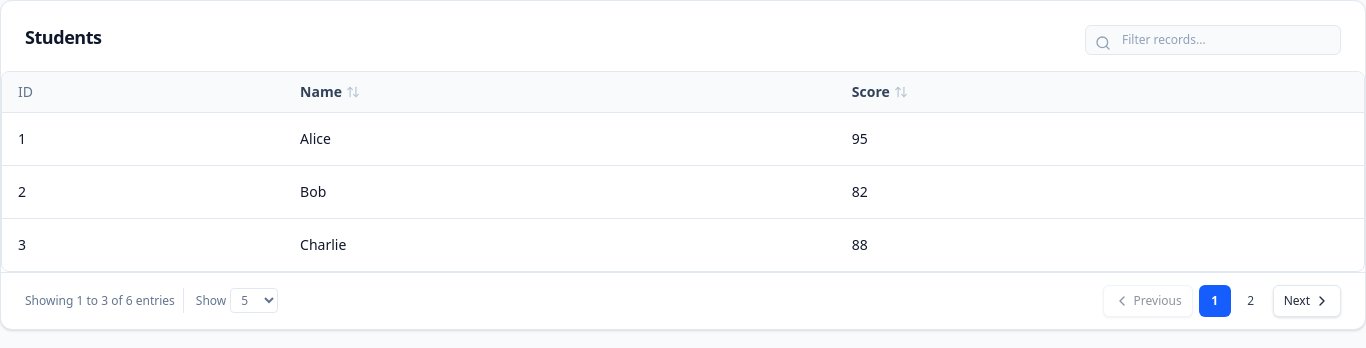
Data Visualization & Dashboard Toolkit (Component Tests) › PaginatedDataTable › renders table rows with pagination and row count indicator
The width and height of the screenshot is (1366, 348).
Expected: the heading "Students" is shown, [25,28,102,46]
Expected: the text "Alice" is shown, [284,112,836,165]
// Click Next page
Click the button "Next" at (1307, 300), box [1273,284,1341,316]
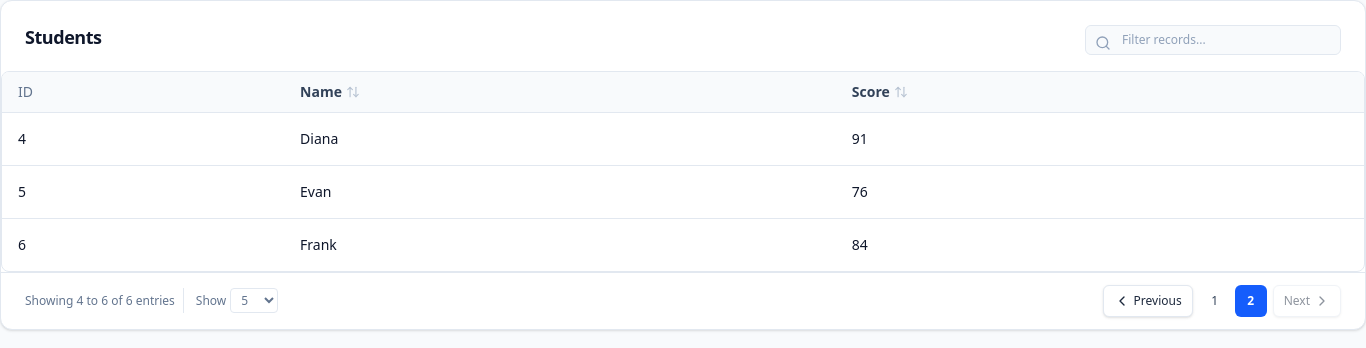
Now the text "Diana" is shown, box [284,112,836,165]
Now the text "Evan" is shown, box [284,165,836,218]
